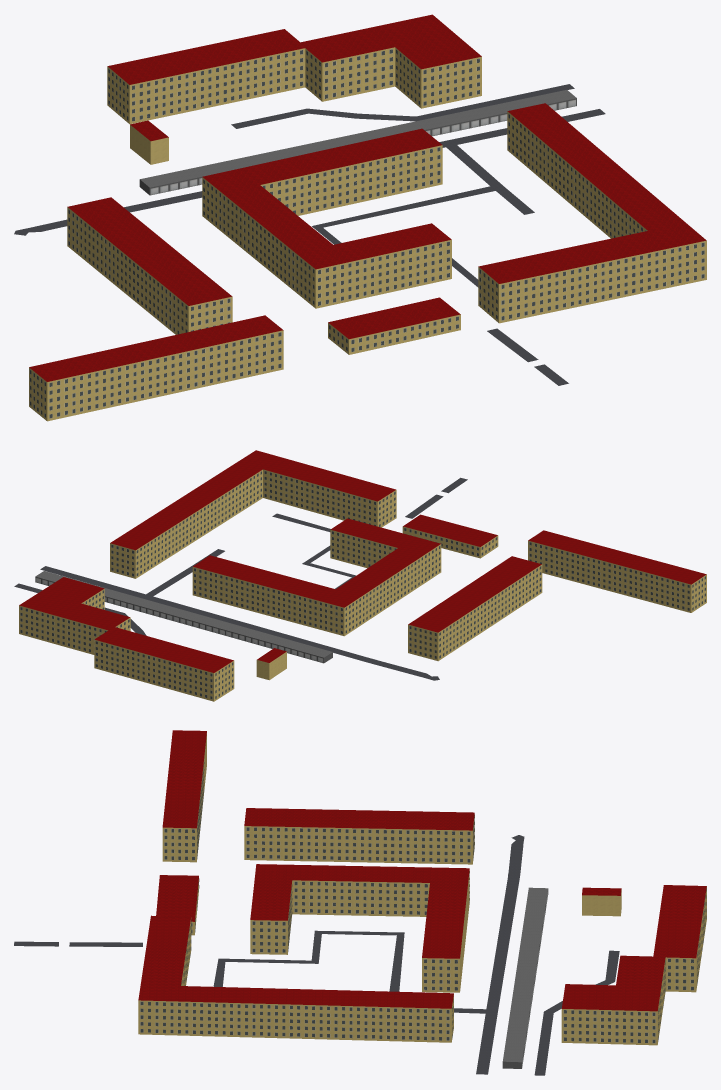
Rendered from district_1_-2.glb.
3 renders of one model, top to bottom at view 1: azimuth 30°, elevation 25°; view 2: azimuth 150°, elevation 25°; view 3: azimuth 270°, elevation 25°, orthographic. The views are drawn at different scales.
Visible parts, largest first — view 1: Building w44036601, Building w44036562, Building w44036722, Building w44036573, Building w44036598, Building w336519424, Building w44036561, Road w336519418, Road w311798022, Road Днепропетровская улица, Building w625504330, Road w453263713; view 2: Building w44036601, Building w44036562, Building w44036722, Building w44036573, Building w44036598, Building w336519424, Building w44036561, Road Днепропетровская улица, Road w311798022, Building w625504330, Road w453263713; view 3: Building w44036562, Building w44036601, Building w44036598, Building w44036722, Building w44036573, Building w336519424, Road Днепропетровская улица, Road w311798022, Building w44036561, Road w336519418, Building w625504330, Road w453263713.
Boxes of the visible parts, bbox=[...] form: Building w44036601: bbox=[202, 128, 451, 308]; Building w44036562: bbox=[478, 103, 706, 323]; Building w44036722: bbox=[107, 14, 481, 124]; Building w44036573: bbox=[29, 315, 283, 421]; Building w44036598: bbox=[67, 197, 232, 334]; Building w336519424: bbox=[139, 90, 576, 195]; Building w44036561: bbox=[328, 297, 460, 354]; Road w336519418: bbox=[231, 84, 574, 128]; Road w311798022: bbox=[312, 145, 500, 287]; Road Днепропетровская улица: bbox=[16, 109, 605, 232]; Building w625504330: bbox=[130, 120, 168, 164]; Road w453263713: bbox=[487, 328, 568, 385]; Building w44036601: bbox=[192, 518, 441, 636]; Building w44036562: bbox=[110, 450, 396, 578]; Building w44036722: bbox=[19, 577, 234, 701]; Building w44036573: bbox=[528, 530, 706, 612]; Building w44036598: bbox=[408, 556, 542, 661]; Building w336519424: bbox=[35, 571, 332, 663]; Building w44036561: bbox=[402, 514, 498, 558]; Road Днепропетровская улица: bbox=[40, 566, 433, 680]; Road w311798022: bbox=[146, 513, 355, 596]; Building w625504330: bbox=[256, 648, 286, 680]; Road w453263713: bbox=[405, 477, 467, 518]; Building w44036562: bbox=[138, 915, 453, 1042]; Building w44036601: bbox=[250, 864, 469, 992]; Building w44036598: bbox=[244, 808, 474, 864]; Building w44036722: bbox=[561, 885, 706, 1045]; Building w44036573: bbox=[162, 730, 206, 862]; Building w336519424: bbox=[502, 887, 548, 1068]; Road Днепропетровская улица: bbox=[476, 837, 524, 1074]; Road w311798022: bbox=[213, 930, 486, 1013]; Building w44036561: bbox=[156, 875, 199, 935]; Road w336519418: bbox=[534, 950, 619, 1075]; Building w625504330: bbox=[582, 887, 621, 916]; Road w453263713: bbox=[14, 941, 142, 946].
Size of the model in its own units: 245 by 12.5 by 231.
6 materials, 6 textured.
